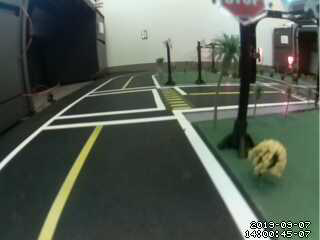Stop_Sign: (219, 1, 275, 25)
